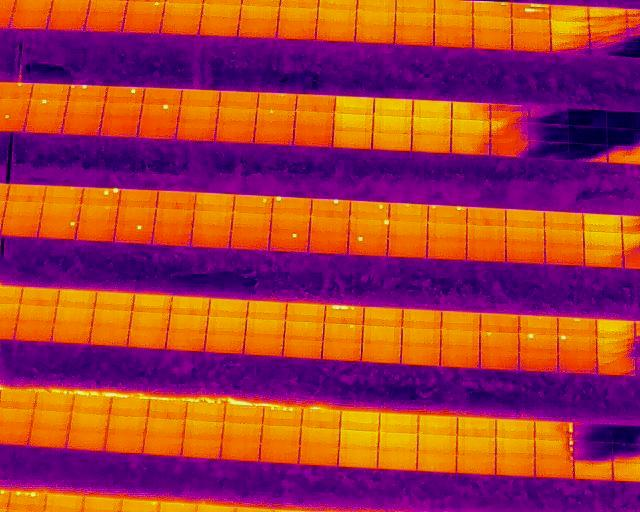Cell: (269, 231, 308, 251), (348, 235, 387, 255), (115, 223, 152, 243), (38, 221, 76, 240), (273, 197, 312, 215), (350, 201, 389, 219), (389, 203, 427, 221), (558, 317, 596, 335), (234, 195, 273, 212), (324, 324, 363, 341), (480, 332, 518, 349), (311, 199, 349, 216), (256, 110, 295, 126), (140, 105, 178, 121), (519, 333, 557, 349), (558, 336, 596, 352), (29, 99, 66, 115), (107, 86, 143, 102), (349, 220, 389, 234), (124, 1, 164, 15), (473, 2, 511, 16)
Cell-Multi: (8, 491, 46, 511), (428, 205, 466, 224), (535, 422, 573, 440), (263, 407, 301, 425), (81, 188, 119, 205), (535, 440, 573, 457), (68, 85, 106, 102), (512, 3, 549, 19)
No-Anomaly: (14, 320, 53, 342), (558, 352, 596, 374), (506, 242, 544, 264), (428, 238, 466, 260), (440, 348, 479, 369), (230, 229, 269, 250), (468, 239, 505, 261), (209, 299, 249, 319), (480, 349, 518, 370), (519, 351, 557, 372), (596, 319, 634, 340), (128, 329, 167, 349), (167, 331, 206, 351), (362, 344, 401, 364), (299, 446, 338, 466), (260, 442, 299, 462), (496, 456, 535, 476), (388, 237, 427, 257), (161, 15, 200, 35), (247, 301, 286, 321), (52, 323, 91, 343), (6, 184, 47, 203), (506, 209, 544, 229), (512, 31, 550, 51), (144, 435, 182, 455), (182, 438, 222, 457), (338, 449, 378, 468), (0, 218, 40, 237), (309, 234, 347, 254), (95, 291, 135, 310), (106, 433, 145, 452), (401, 346, 440, 365), (434, 29, 473, 48), (283, 339, 322, 358), (356, 25, 395, 44), (451, 136, 490, 155), (300, 428, 339, 447), (411, 134, 450, 153), (171, 296, 210, 315), (192, 227, 231, 246), (583, 213, 622, 232), (152, 226, 191, 245), (545, 246, 584, 265), (58, 289, 97, 308), (133, 294, 172, 313), (364, 308, 403, 327), (417, 452, 456, 471), (574, 460, 613, 479), (206, 317, 247, 335), (395, 26, 433, 45), (322, 340, 360, 359), (452, 101, 490, 120), (363, 326, 401, 345), (402, 328, 440, 347), (67, 431, 105, 450), (221, 441, 259, 460), (10, 11, 48, 30), (374, 98, 412, 117), (545, 211, 583, 230), (123, 14, 161, 33), (403, 310, 441, 329), (535, 458, 573, 477), (244, 337, 284, 355), (44, 185, 84, 203), (204, 334, 244, 352), (84, 13, 124, 31), (41, 203, 81, 221), (200, 18, 240, 36), (245, 319, 285, 337), (25, 114, 62, 133), (101, 118, 138, 137), (63, 115, 100, 134), (339, 431, 378, 449), (418, 417, 457, 435), (108, 415, 147, 433), (340, 412, 379, 430), (255, 126, 294, 144), (372, 133, 411, 151), (441, 330, 480, 348), (496, 420, 535, 438), (90, 327, 129, 345), (48, 12, 87, 30), (195, 193, 234, 211), (294, 128, 333, 146), (333, 131, 372, 149), (335, 96, 374, 114), (413, 100, 452, 118), (76, 223, 115, 241), (505, 227, 544, 245), (238, 20, 277, 38), (277, 20, 316, 38), (378, 451, 417, 469), (456, 455, 495, 473), (379, 414, 417, 432), (302, 410, 340, 428), (157, 191, 195, 209), (79, 205, 117, 223), (155, 209, 193, 227), (473, 31, 511, 49), (32, 411, 70, 429), (70, 413, 108, 431), (467, 207, 505, 225), (178, 123, 216, 141), (21, 288, 59, 306), (468, 224, 506, 242), (442, 312, 480, 330), (310, 217, 348, 235), (545, 228, 583, 246), (286, 304, 324, 322), (184, 421, 224, 438), (17, 305, 57, 322), (284, 322, 324, 339), (271, 214, 311, 231), (29, 428, 66, 446), (73, 397, 110, 415), (457, 419, 494, 437), (585, 249, 622, 267), (222, 423, 261, 440), (378, 433, 417, 450), (110, 399, 149, 416), (224, 406, 263, 423), (334, 114, 373, 131), (193, 211, 232, 228), (186, 404, 225, 421), (261, 426, 300, 443), (92, 310, 131, 327), (54, 307, 93, 324), (316, 24, 355, 41), (130, 312, 169, 329), (45, 494, 84, 511), (148, 402, 186, 419), (295, 112, 333, 129), (139, 121, 177, 138), (216, 125, 254, 142), (145, 419, 183, 436), (457, 437, 495, 454), (373, 116, 411, 133), (297, 95, 335, 112), (233, 212, 271, 229), (390, 221, 428, 238), (480, 314, 518, 331), (519, 316, 557, 333), (220, 91, 258, 108), (3, 201, 43, 217), (239, 5, 279, 21), (168, 315, 208, 331), (36, 394, 73, 411), (120, 189, 157, 206), (181, 90, 218, 107), (584, 232, 621, 249), (418, 435, 457, 451), (278, 6, 317, 22), (117, 206, 156, 222), (451, 120, 490, 136), (217, 109, 255, 125), (550, 5, 588, 21), (496, 440, 534, 456), (317, 8, 355, 24), (412, 118, 450, 134), (31, 83, 69, 99), (258, 93, 296, 109), (428, 224, 466, 240), (180, 107, 217, 123), (144, 88, 181, 104), (434, 14, 473, 29), (162, 3, 203, 17), (395, 12, 433, 27), (357, 10, 395, 25), (473, 16, 511, 31), (512, 18, 550, 33), (434, 0, 472, 15), (104, 103, 141, 118), (66, 101, 103, 116), (203, 4, 239, 19), (551, 21, 589, 35)
Shadowing: (528, 122, 570, 144), (527, 141, 569, 161), (597, 355, 636, 376), (569, 109, 608, 130), (529, 106, 569, 126), (569, 126, 609, 146), (574, 423, 612, 442), (569, 144, 608, 162), (574, 442, 613, 460), (490, 139, 529, 157), (490, 121, 529, 139), (490, 103, 528, 121), (596, 337, 634, 355), (551, 35, 589, 52), (588, 7, 626, 22), (589, 22, 627, 36)
Unclassified: (324, 306, 363, 324)
